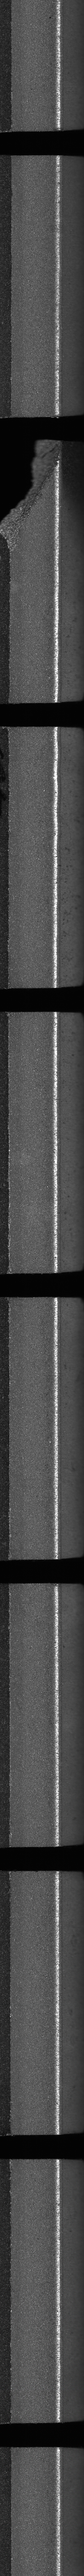Chip: (0, 435, 64, 557)
